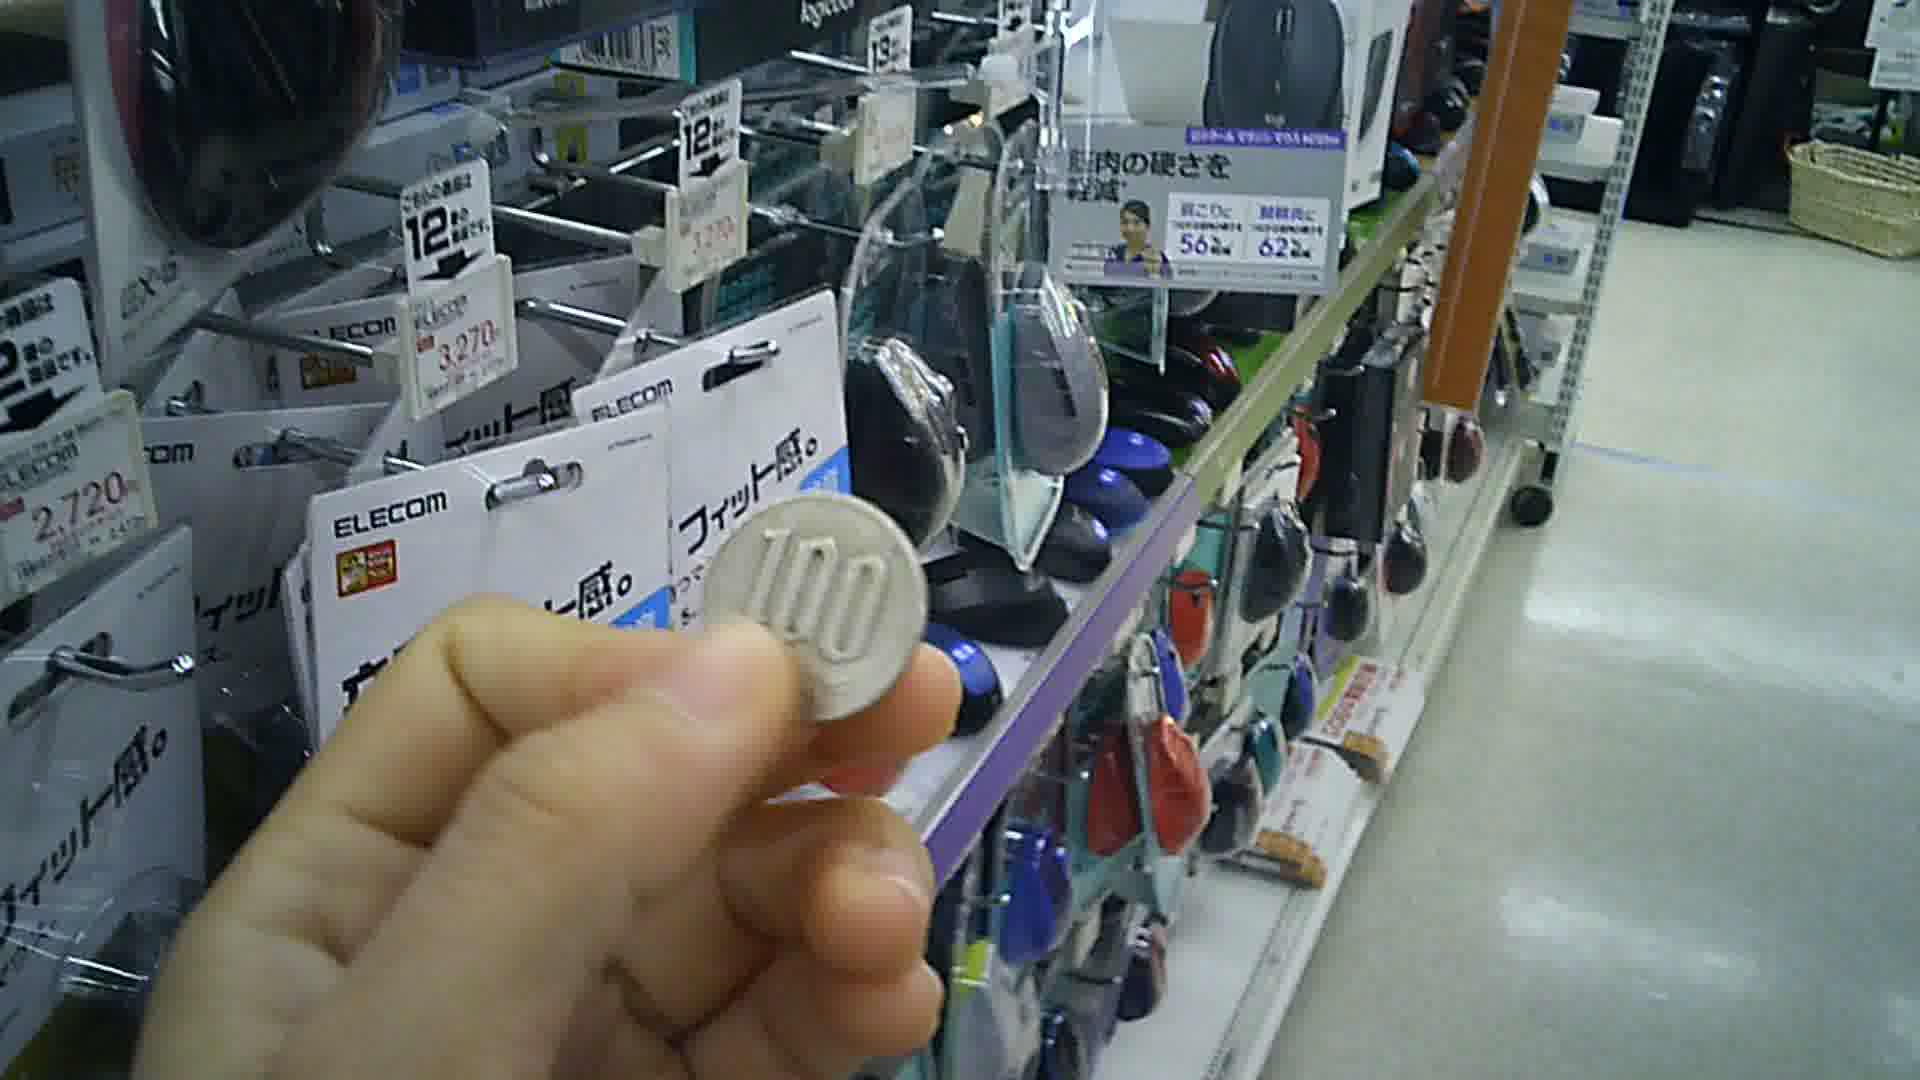100 Yen: (687, 477, 924, 732)
